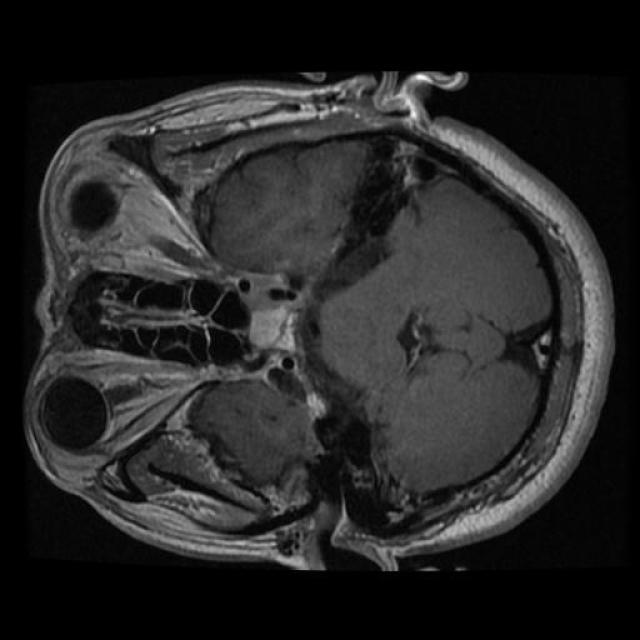Pituitary: (231, 272, 305, 388)
